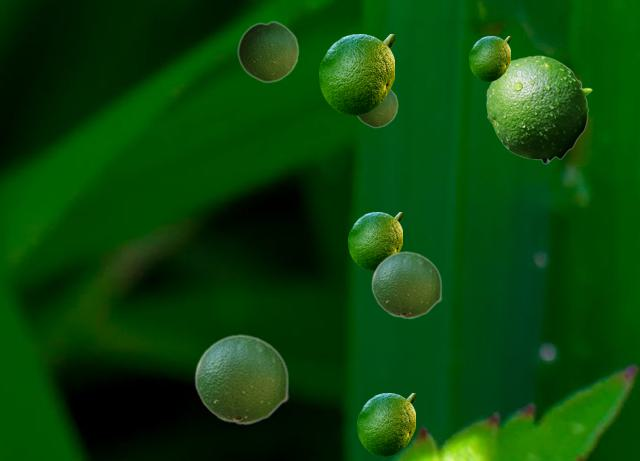dalandan: (486, 55, 591, 163), (194, 334, 288, 424), (319, 34, 393, 114), (371, 251, 441, 318), (237, 20, 298, 82), (357, 393, 414, 455), (348, 212, 401, 269), (469, 36, 509, 80), (356, 89, 397, 127)
